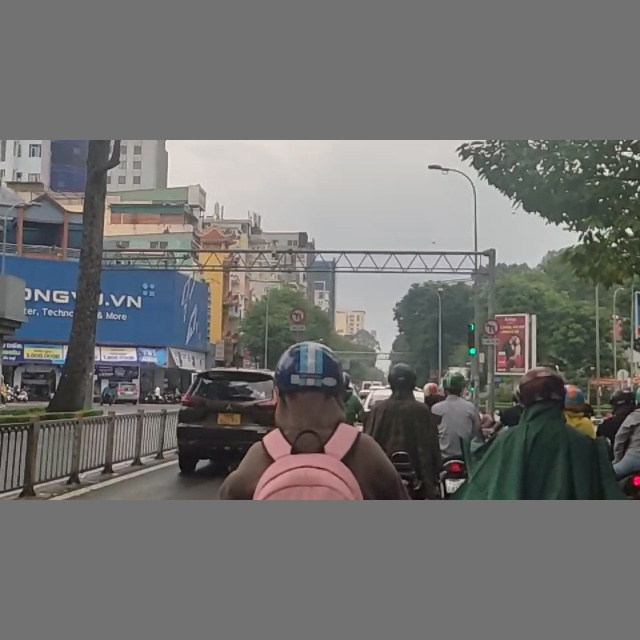P.124c: (483, 318, 501, 336), (289, 307, 306, 325)
